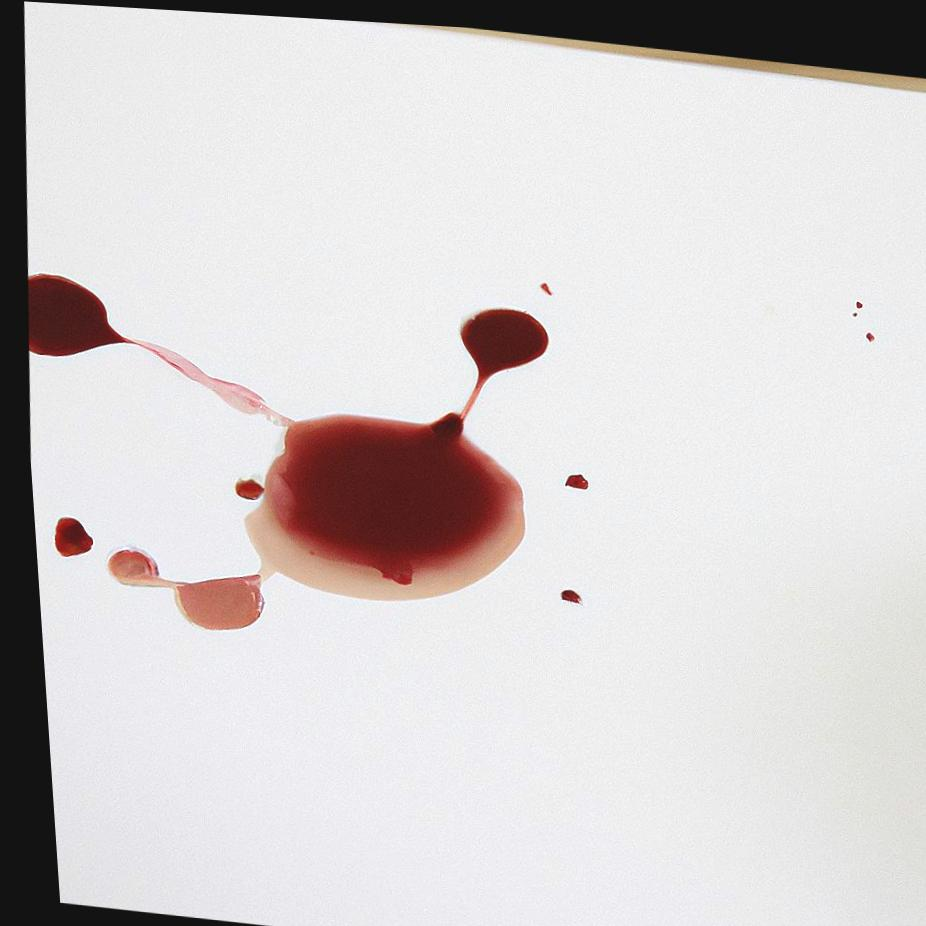Fire: (24, 272, 543, 627), (47, 516, 86, 556), (558, 466, 581, 483), (552, 582, 572, 595)
